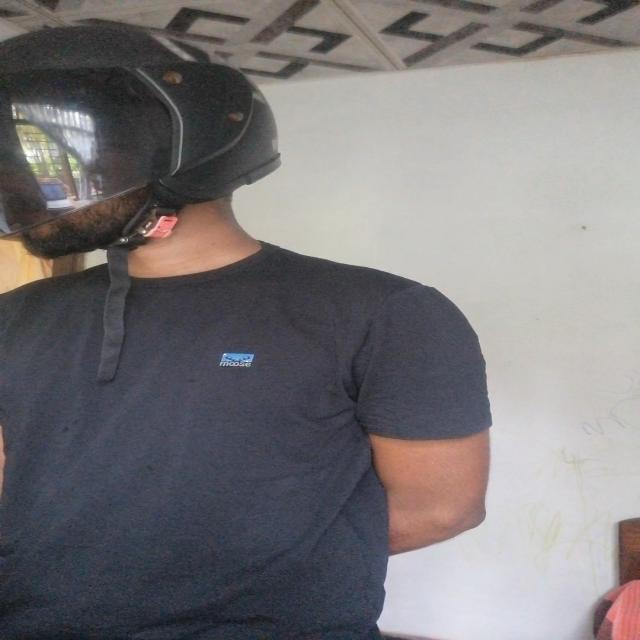Helmet_Wearer: (6, 14, 302, 302)
Person: (0, 22, 487, 639)
